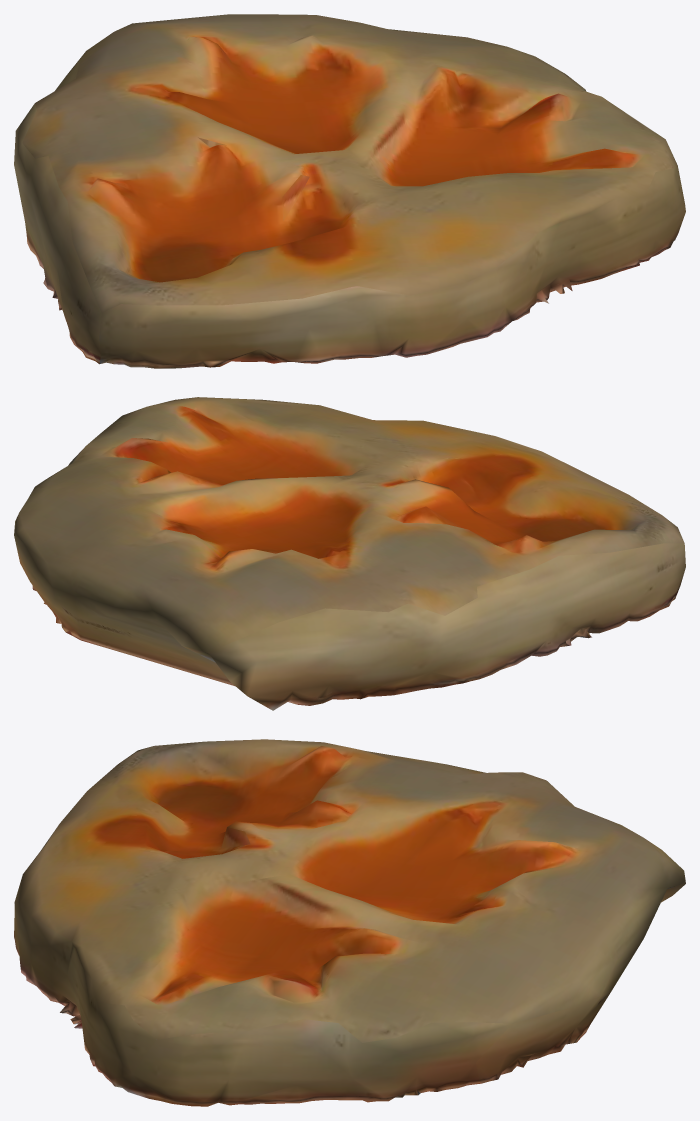
Rendered from prop_dino_footprint_slab.glb.
3 renders of one model, top to bottom at view 1: azimuth 30°, elevation 25°; view 2: azimuth 150°, elevation 25°; view 3: azimuth 270°, elevation 25°, orthographic. The views are drawn at different scales.
Parts seen in each view (by area): view 1: geometry_0; view 2: geometry_0; view 3: geometry_0.
Boxes of the visible parts, x1=… form: geometry_0: x1=14, y1=14, x2=685, y2=368; geometry_0: x1=14, y1=397, x2=685, y2=710; geometry_0: x1=14, y1=739, x2=685, y2=1106.
Size of the model in its own units: 1.37 by 0.2656 by 1.31.
1 material, 1 textured.
